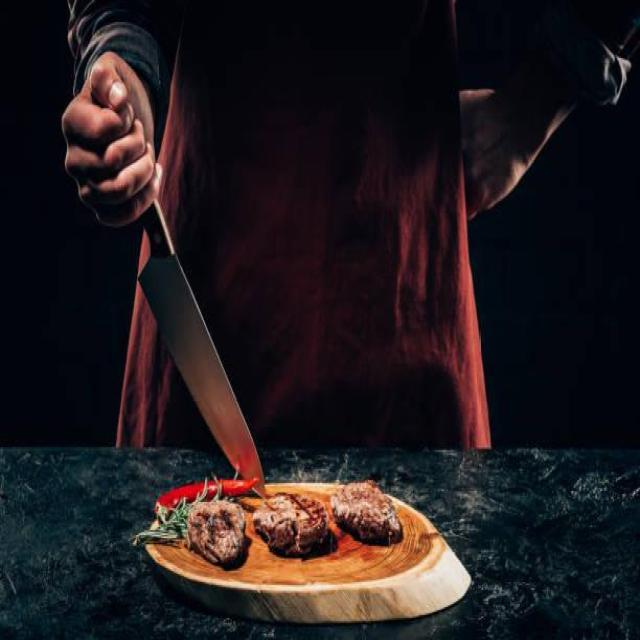faca: (58, 48, 272, 510)
